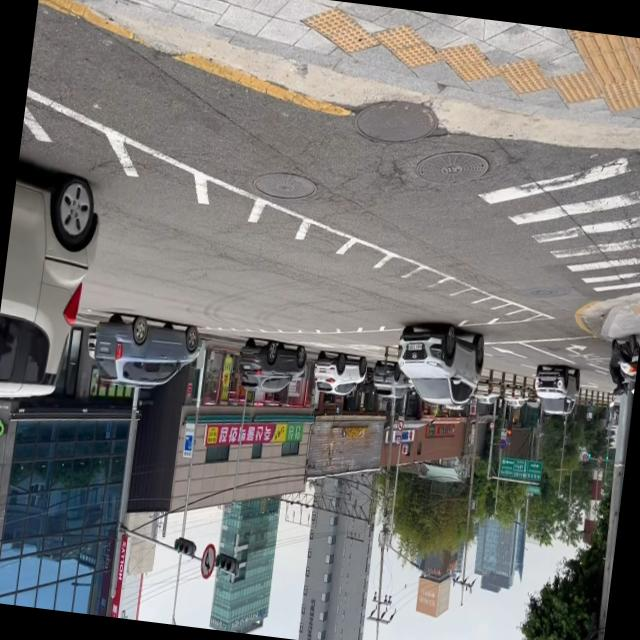building: (0, 405, 146, 614), (294, 462, 382, 640), (447, 470, 536, 600), (206, 490, 282, 636)
car: (0, 192, 103, 400), (83, 289, 219, 411), (391, 318, 486, 410), (234, 335, 308, 397), (530, 362, 582, 416), (310, 349, 368, 397)
